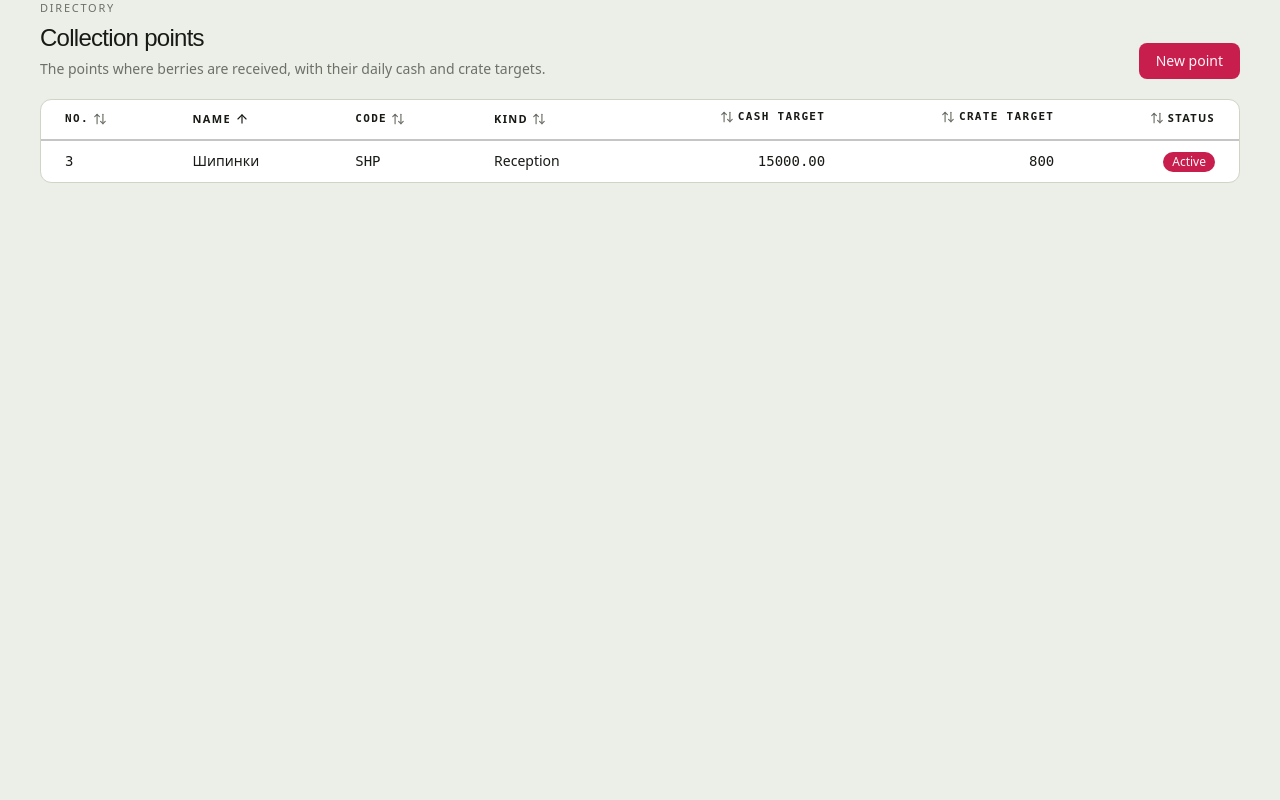
Test: PointsPage › opens the edit dialog prefilled from a row
Click the text "Шипинки" at (226, 160), box [192,151,259,170]
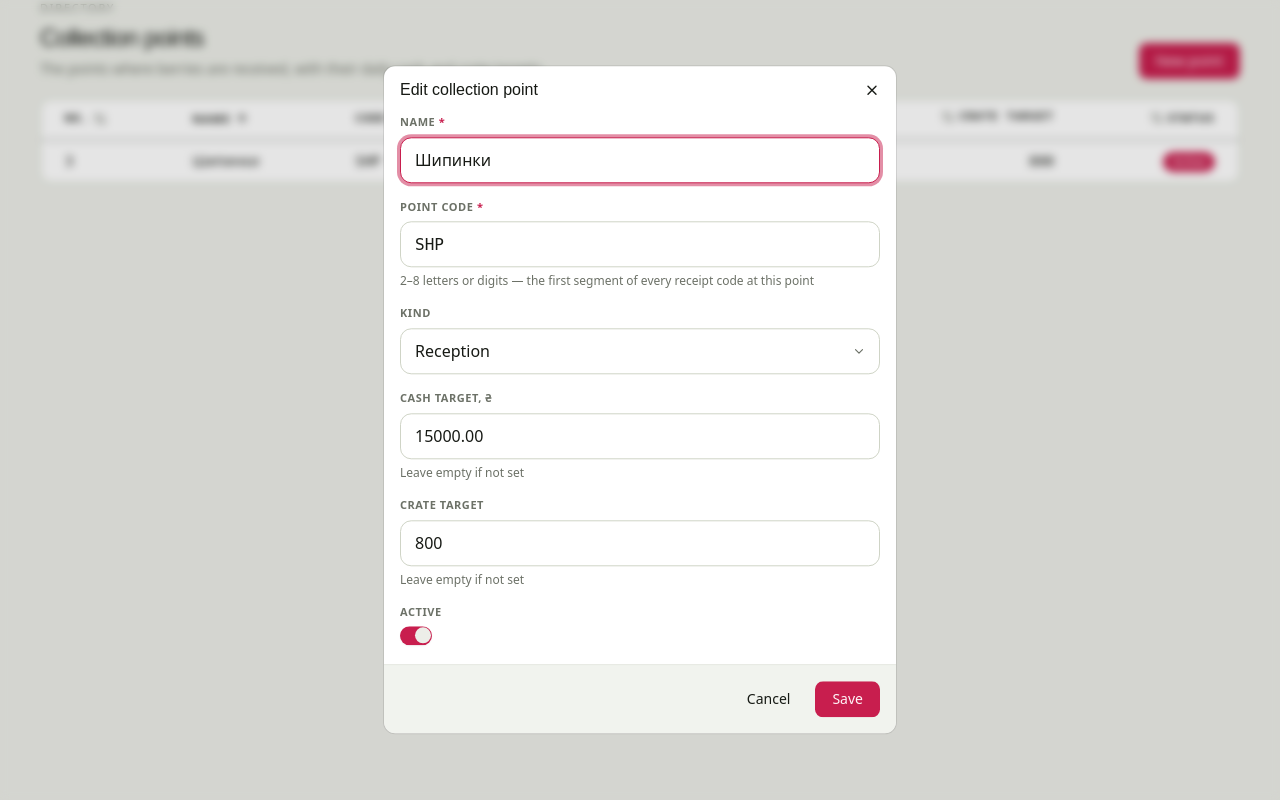
Now the heading "Edit collection point" is shown, box [400,81,538,98]
Now the field labelled "Name" holds "Шипинки", box [400,137,880,183]
